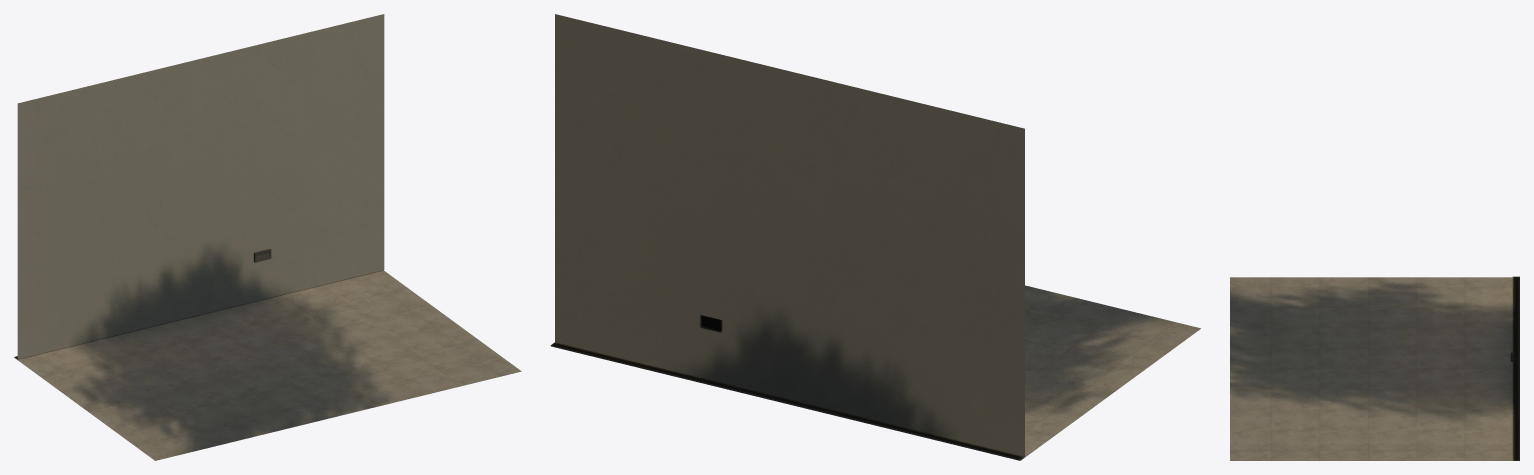
Rendered from Prova_export_6_rettangular_giorno.glb.
3 renders of one model, left to right at view 1: azimuth 30°, elevation 25°; view 2: azimuth 150°, elevation 25°; view 3: azimuth 270°, elevation 25°, orthographic. The views are drawn at different scales.
Visible parts, largest first — view 1: Muro, Pavimento; view 2: Muro, Pavimento; view 3: Pavimento, Muro.
Part boxes in pixels (box(x1,y1,x2,y2)): Muro: box(14, 14, 384, 359); Pavimento: box(14, 270, 521, 460); Muro: box(550, 14, 1024, 459); Pavimento: box(551, 285, 1200, 460); Pavimento: box(1230, 277, 1519, 460); Muro: box(1512, 276, 1519, 460).
Bounding box in the file's own units: 5.99 × 4.01 × 4.
Materials: 4 (4 with a texture image).
